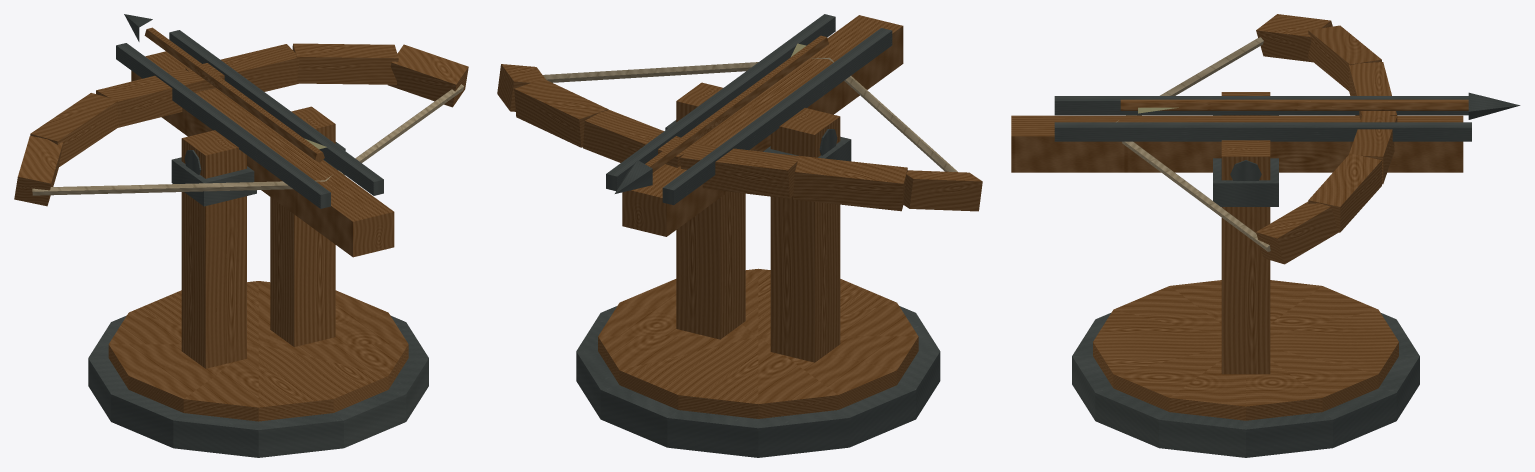
File: ballista.glb
The picture shows the model from 3 angles, left to right: view 1: azimuth 30°, elevation 25°; view 2: azimuth 150°, elevation 25°; view 3: azimuth 270°, elevation 25°; orthographic projection. The views are drawn at different scales.
Visible parts, largest first — view 1: barrel, frame, turntable; view 2: barrel, frame, turntable; view 3: barrel, frame, turntable.
Boxes of the visible parts, x1,y1,x2,y2 form: barrel: [14, 14, 468, 257]; frame: [88, 281, 428, 457]; turntable: [171, 106, 345, 368]; barrel: [497, 14, 982, 236]; frame: [576, 268, 940, 457]; turntable: [665, 82, 851, 362]; barrel: [1011, 14, 1520, 264]; frame: [1072, 280, 1419, 457]; turntable: [1213, 92, 1278, 374].
Size of the model in its own units: 3.06 by 1.85 by 2.93.
1 material, 1 textured.
